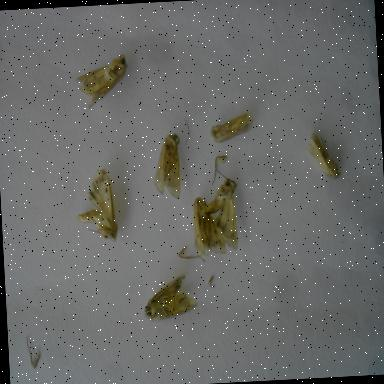abw: (71, 163, 122, 247), (195, 168, 244, 253), (70, 50, 132, 112), (137, 269, 201, 325), (182, 191, 232, 262), (147, 127, 185, 205), (304, 127, 346, 185), (205, 106, 258, 148)
